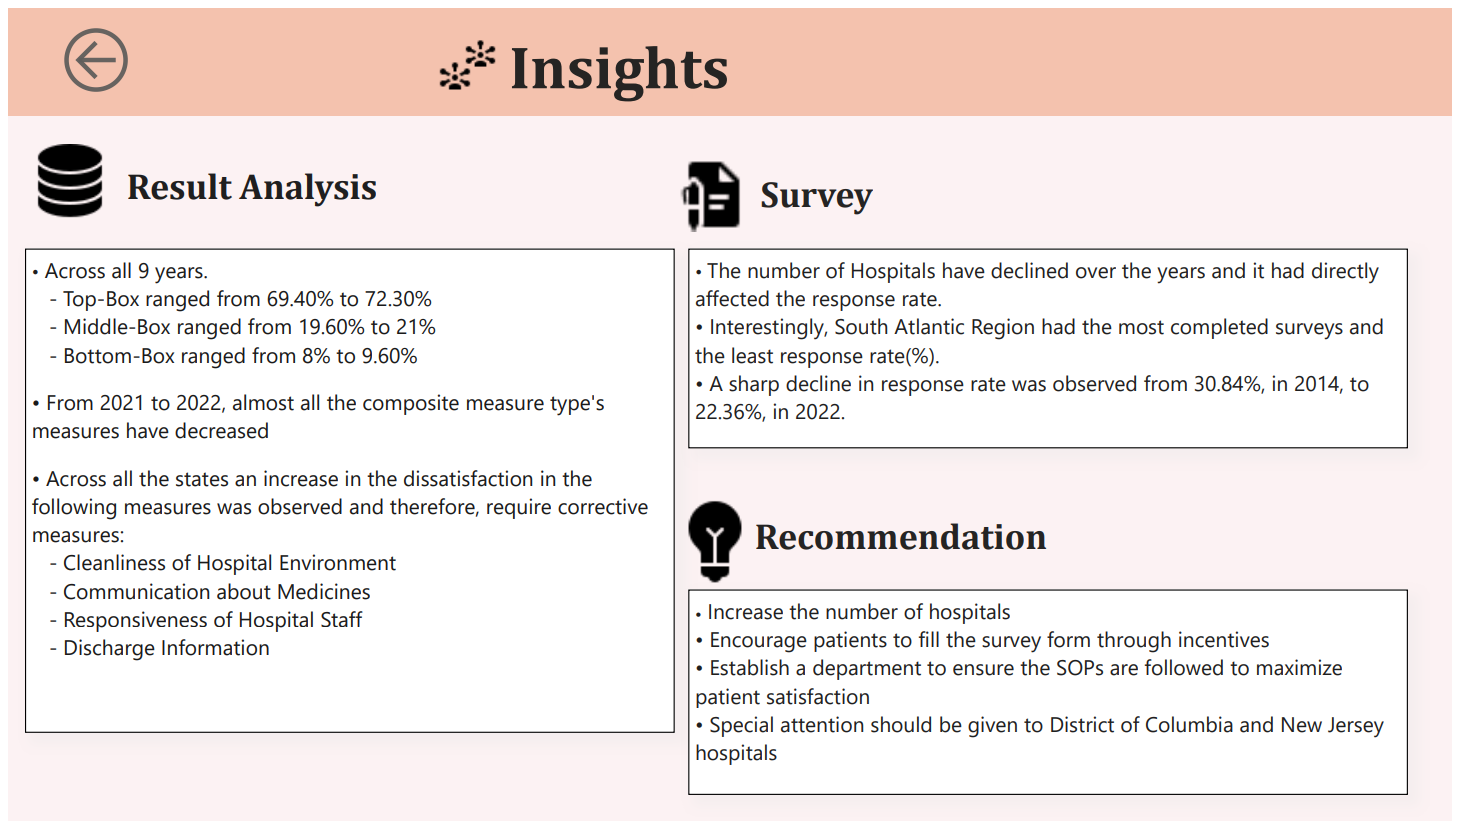

What the dashboard file says about the page in this screenshot:
{"tool":"powerbi","page":{"name":"Insights","canvas":[1280,720],"ordinal":4},"visuals":[{"type":"textbox","box":[14.7,212.8,576,429.2],"z":0},{"type":"textbox","box":[602.9,212.8,638.3,177.3],"z":1000},{"type":"textbox","box":[602.9,514.8,638.3,182.2],"z":2000},{"type":"textbox","box":[78.3,127.2,276.4,73.4],"z":3000},{"type":"image","box":[14.7,116.2,79.5,75.8],"z":4000},{"type":"image","box":[556.4,428,139.4,86.8],"z":5000},{"type":"image","box":[549.1,127.2,152.9,75.8],"z":6000},{"type":"textbox","box":[639.5,134.5,154.1,62.4],"z":7000},{"type":"textbox","box":[656.7,434.1,319.2,74.6],"z":8000},{"type":"textbox","box":[0,0,1280.3,95.4],"z":9000},{"type":"image","box":[396.2,19.6,45.2,40.4],"z":10000},{"type":"image","box":[374.2,40.4,45.2,40.4],"z":11000},{"type":"actionButton","box":[42.8,11,139.4,69.7],"z":12000}]}

Visuals, with their boxes in screenshot pixels (x1, y1, x2, y2), scaled from the page's 1280x720 canvas onto the 1457x823 screenshot:
textbox: [x1=17, y1=243, x2=672, y2=734]
textbox: [x1=686, y1=243, x2=1413, y2=446]
textbox: [x1=686, y1=588, x2=1413, y2=797]
textbox: [x1=89, y1=145, x2=404, y2=229]
image: [x1=17, y1=133, x2=107, y2=219]
image: [x1=633, y1=489, x2=792, y2=588]
image: [x1=625, y1=145, x2=799, y2=232]
textbox: [x1=728, y1=154, x2=903, y2=225]
textbox: [x1=748, y1=496, x2=1111, y2=581]
textbox: [x1=0, y1=0, x2=1456, y2=109]
image: [x1=451, y1=22, x2=502, y2=69]
image: [x1=426, y1=46, x2=477, y2=92]
actionButton: [x1=49, y1=13, x2=207, y2=92]
